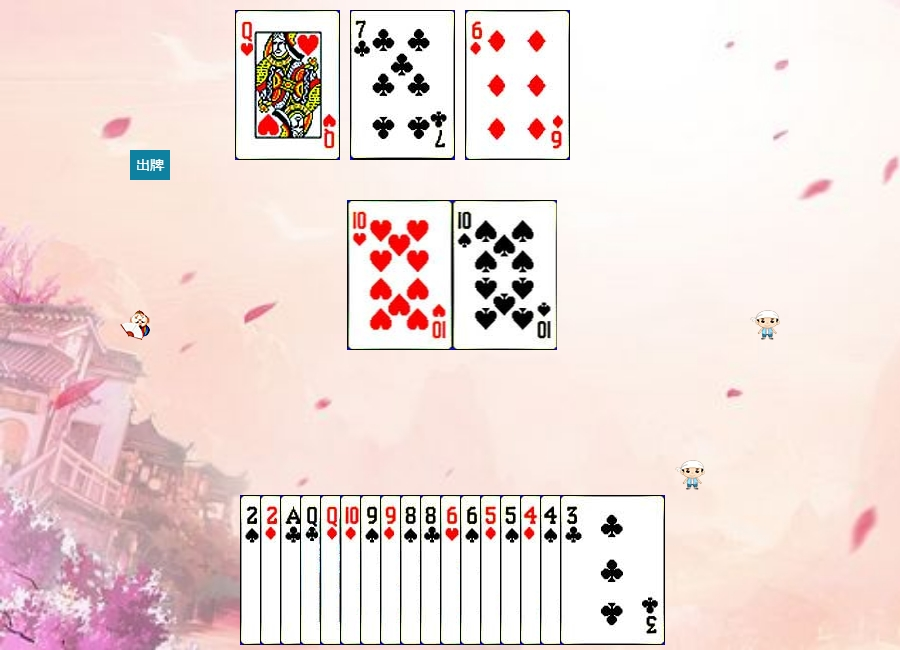10~1: (340, 495, 445, 645)
10~3: (348, 200, 453, 350)
10~4: (453, 200, 558, 350)
12~1: (320, 495, 425, 645)
12~2: (300, 495, 405, 645)
12~3: (235, 10, 340, 160)
14~2: (280, 495, 385, 645)
15~1: (260, 495, 365, 645)
15~4: (240, 495, 345, 645)
3~2: (560, 495, 665, 645)
4~1: (520, 495, 625, 645)
4~4: (540, 495, 645, 645)
5~1: (480, 495, 585, 645)
5~4: (500, 495, 605, 645)
6~1: (465, 10, 570, 160)
6~3: (440, 495, 545, 645)
6~4: (460, 495, 565, 645)
7~2: (350, 10, 455, 160)
8~2: (420, 495, 525, 645)
8~4: (400, 495, 505, 645)
9~1: (380, 495, 485, 645)
9~4: (360, 495, 465, 645)
